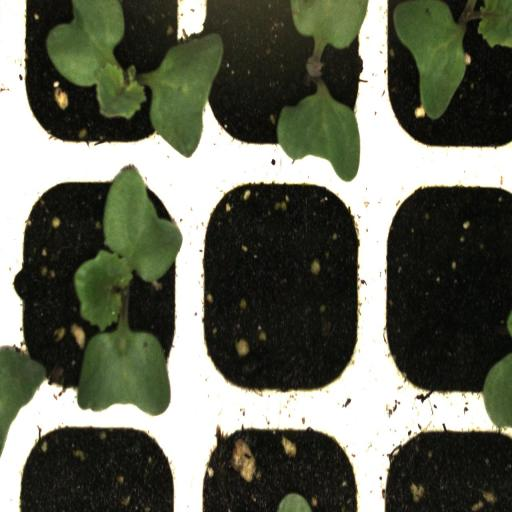noseedling: (187, 174, 375, 413)
seedling: (11, 170, 185, 415), (190, 2, 372, 174), (12, 0, 190, 170), (375, 1, 512, 171)
